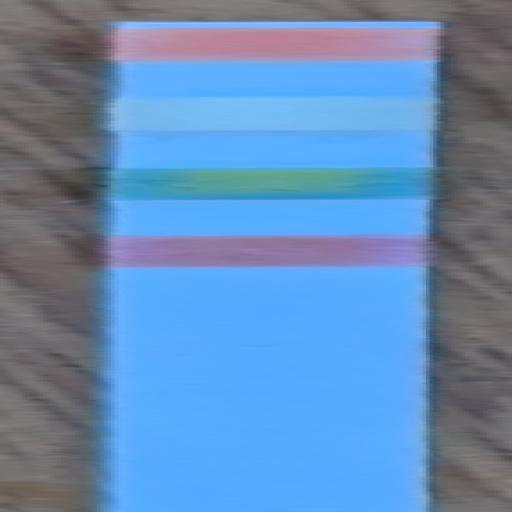pads: (107, 96, 441, 132), (100, 234, 432, 268), (108, 27, 441, 60), (108, 167, 432, 200)
